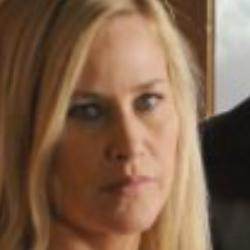face: (1, 3, 220, 245)
